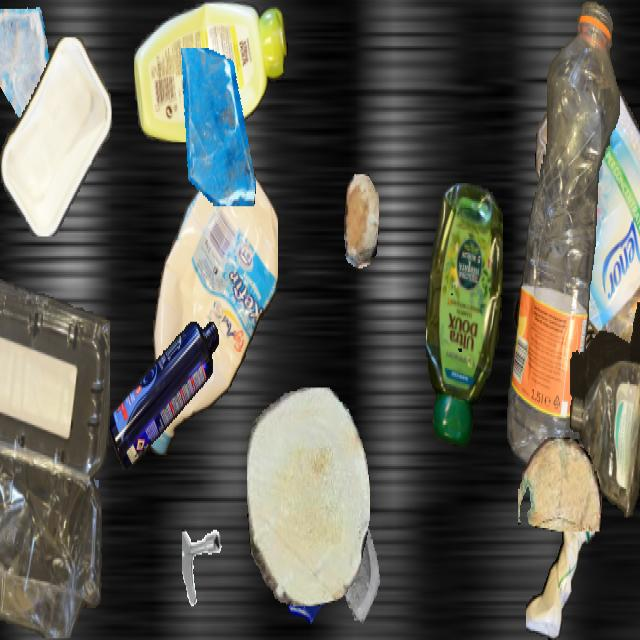glass: (172, 48, 260, 204), (23, 426, 99, 562), (317, 502, 393, 636), (277, 512, 339, 622), (0, 2, 51, 130)
metal: (182, 526, 242, 633)
plastic: (507, 2, 619, 471), (148, 153, 278, 462), (0, 279, 109, 638), (534, 71, 640, 377), (513, 197, 640, 439), (0, 38, 113, 236), (134, 2, 288, 140), (426, 183, 502, 446), (108, 322, 218, 468), (570, 302, 640, 519), (526, 489, 594, 638)
wood: (247, 388, 369, 604), (518, 437, 602, 530), (344, 174, 378, 267)
